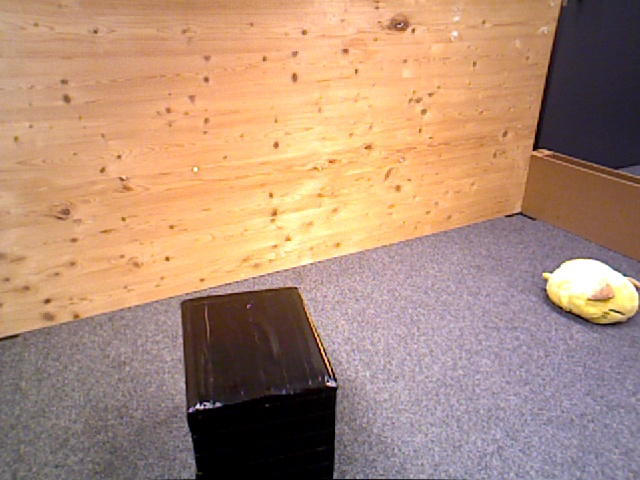grasp: (543, 257, 639, 327)
push: (178, 287, 338, 480)
